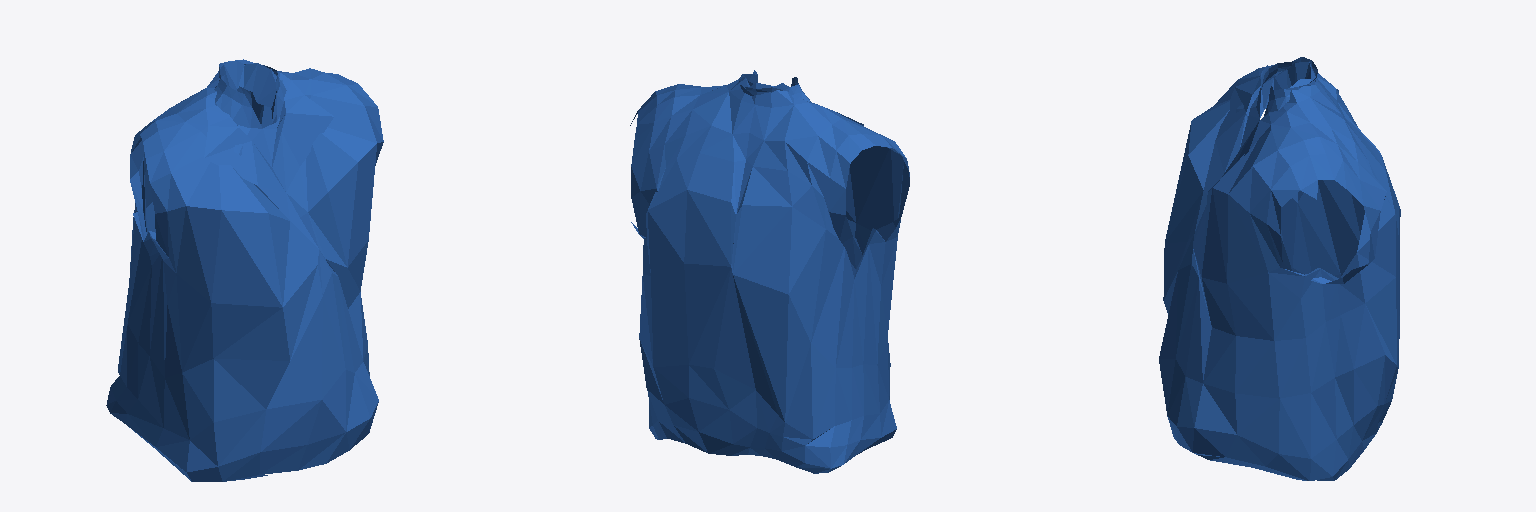
Rendered from shangyi2.obj.
3 renders of one model, left to right at view 1: azimuth 30°, elevation 25°; view 2: azimuth 150°, elevation 25°; view 3: azimuth 270°, elevation 25°, orthographic.
Visible parts, largest first — view 1: file; view 2: file; view 3: file.
Part boxes in pixels (x1,y1,x2,y2): file: (106, 59, 383, 481); file: (630, 70, 909, 473); file: (1159, 57, 1400, 480).
Bounding box in the file's own units: 1.23 × 1.8 × 1.06.